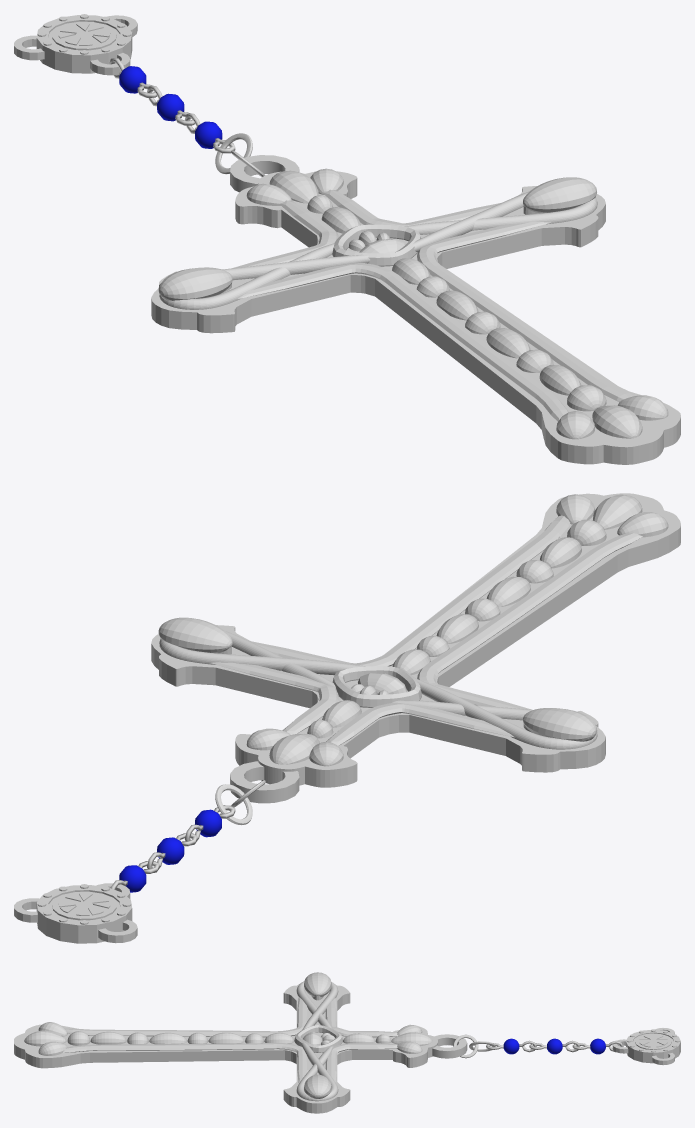
File: juliet_rosary.glb
3 views of the same model, one above another, from view 1: azimuth 30°, elevation 25°; view 2: azimuth 150°, elevation 25°; view 3: azimuth 270°, elevation 25° (orthographic). The views are drawn at different scales.
Parts seen in each view (by area): view 1: Object_4, Object_2; view 2: Object_4, Object_2; view 3: Object_4, Object_2.
Part boxes in pixels (x1=…): Object_4: x1=14, y1=14, x2=680, y2=464; Object_2: x1=119, y1=66, x2=222, y2=148; Object_4: x1=14, y1=493, x2=680, y2=943; Object_2: x1=119, y1=809, x2=221, y2=892; Object_4: x1=14, y1=972, x2=680, y2=1113; Object_2: x1=503, y1=1038, x2=605, y2=1054.
Bounding box in the file's own units: 7.13 × 0.7313 × 16.17.
